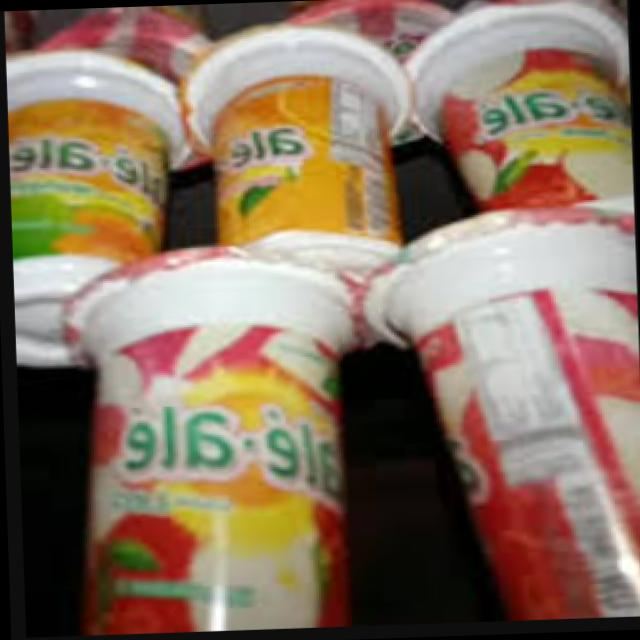GelasPlastik: (60, 243, 362, 638)
